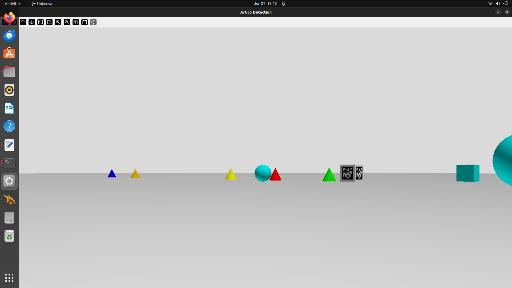blue_cone: (106, 168, 117, 178)
green_cone: (323, 167, 336, 181)
orange_cone: (130, 169, 141, 179)
red_cone: (269, 168, 282, 180)
yellow_cone: (225, 168, 238, 181)
